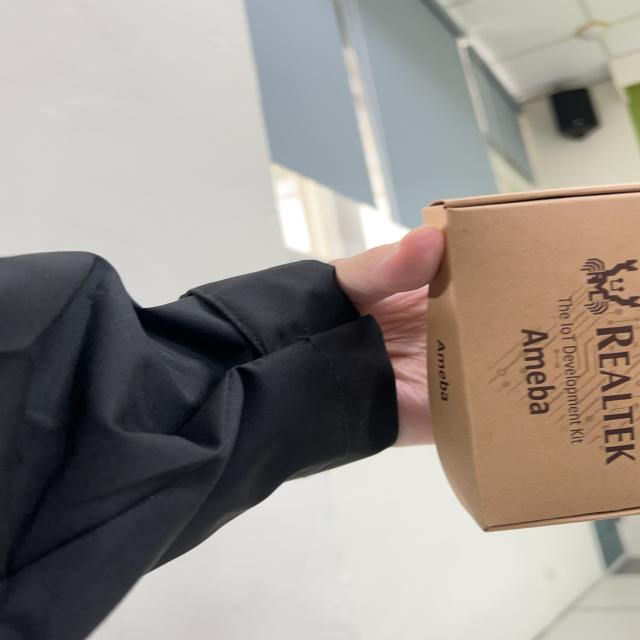box: (393, 178, 640, 540)
